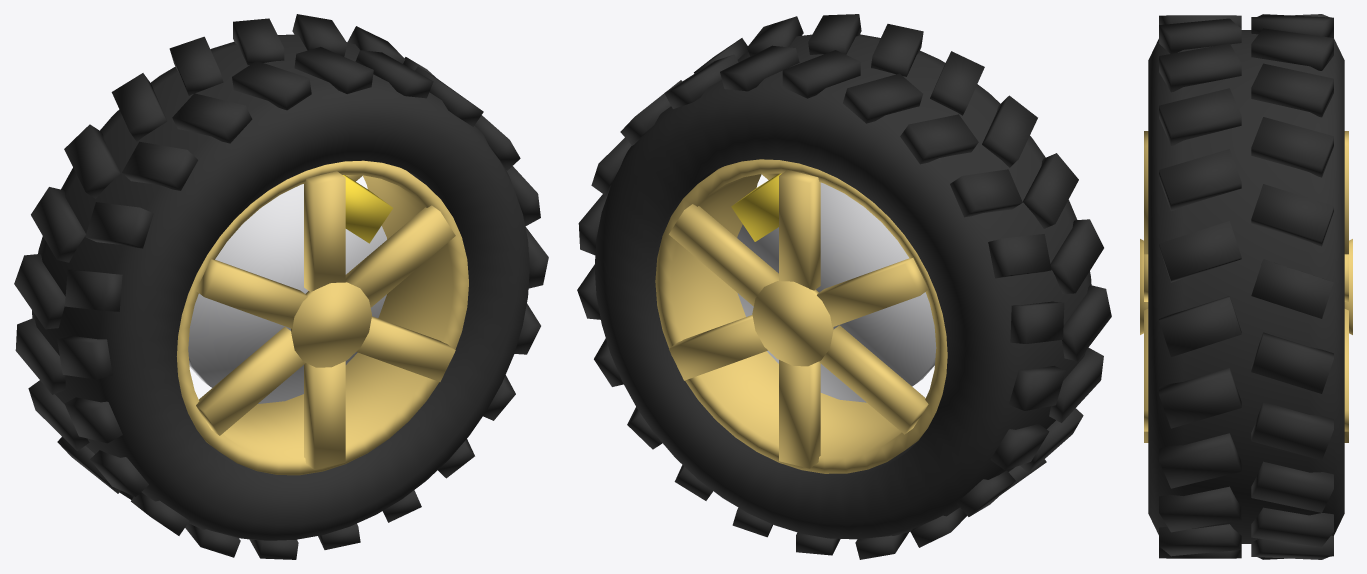
The model's file is wheel.glb.
The picture shows the model from 3 angles, left to right: view 1: azimuth 30°, elevation 25°; view 2: azimuth 150°, elevation 25°; view 3: azimuth 270°, elevation 25°; orthographic projection. The views are drawn at different scales.
Visible parts, largest first — view 1: SM_Wheel; view 2: SM_Wheel; view 3: SM_Wheel.
Boxes of the visible parts, x1=… form: SM_Wheel: x1=14, y1=14, x2=548, y2=559; SM_Wheel: x1=577, y1=14, x2=1111, y2=559; SM_Wheel: x1=1140, y1=14, x2=1352, y2=559.
Size of the model in its own units: 0.734 by 0.734 by 0.286.
